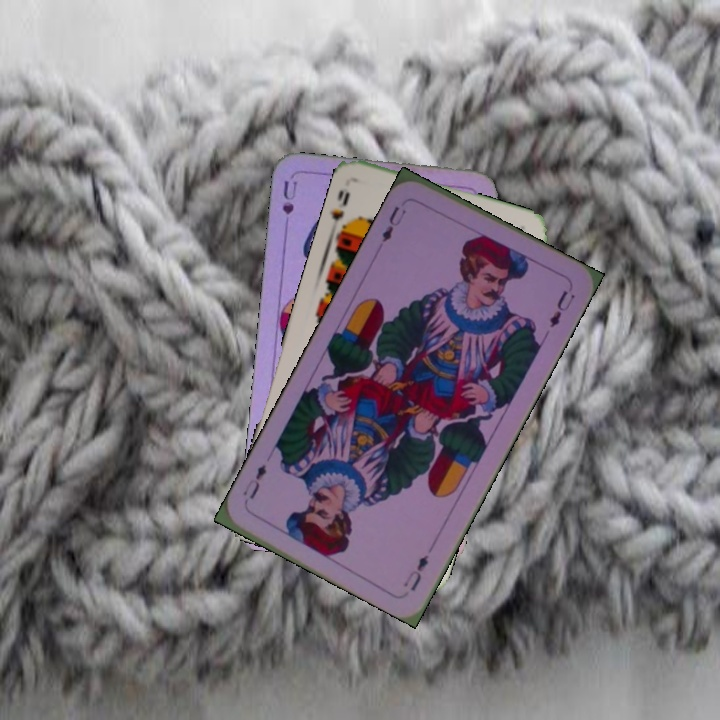EU: (399, 550, 432, 594), (377, 202, 409, 245)
S9: (327, 185, 355, 239)
SU: (278, 177, 300, 235)
